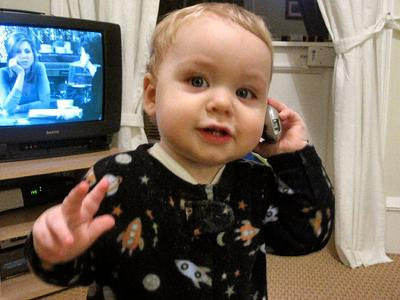person: (29, 4, 335, 300)
